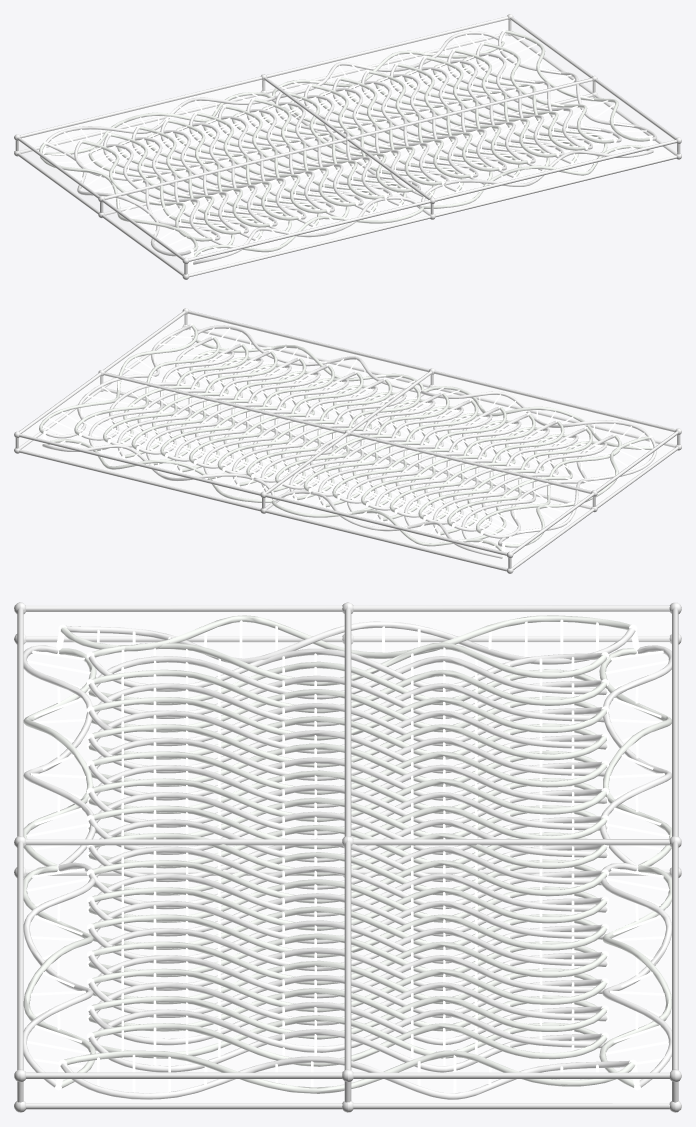
File: merged-WHT-v86.glb
3 views of the same model, one above another, from view 1: azimuth 30°, elevation 25°; view 2: azimuth 150°, elevation 25°; view 3: azimuth 270°, elevation 25° (orthographic). The views are drawn at different scales.
Parts seen in each view (by area): view 1: 4; view 2: 4; view 3: 4.
Boxes of the visible parts, x1=… form: 4: x1=14, y1=14, x2=681, y2=279; 4: x1=14, y1=308, x2=681, y2=573; 4: x1=14, y1=602, x2=681, y2=1112.
Size of the model in its own units: 6.95 by 0.2899 by 4.15.
Materials: 1 (1 with a texture image).
